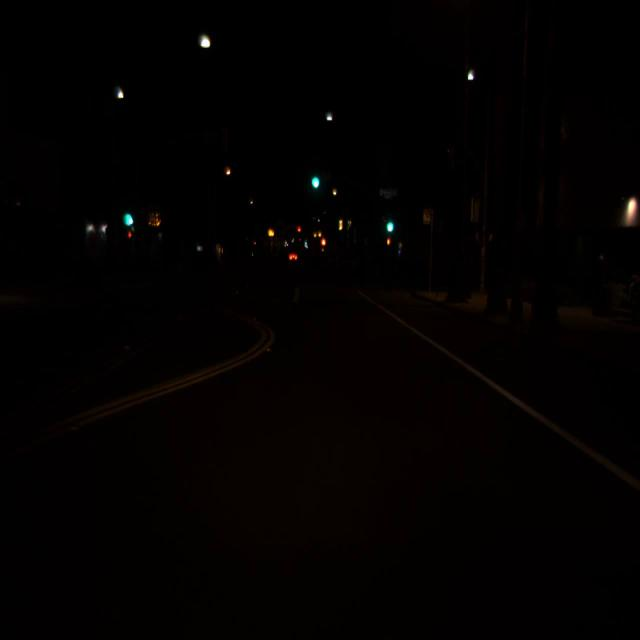go: (312, 178, 319, 186), (126, 215, 131, 225), (387, 223, 392, 230)
go traffic light: (309, 166, 321, 190), (124, 198, 132, 230), (384, 212, 394, 234)
